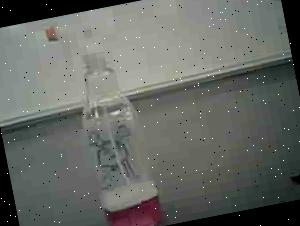hazard: (32, 2, 182, 226)
